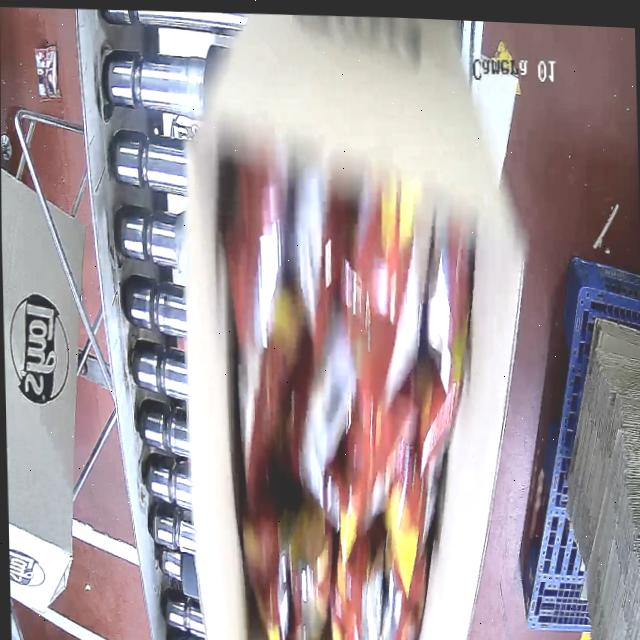MASALA: (223, 138, 483, 640)
